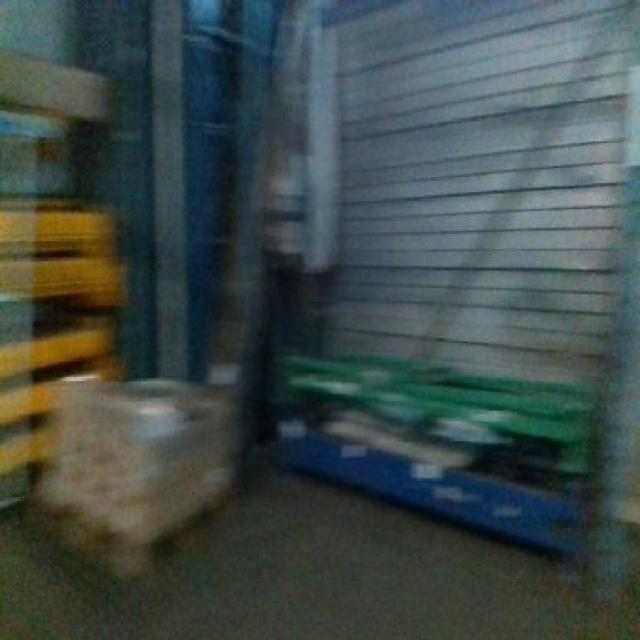pallets: (263, 0, 637, 577), (272, 355, 591, 557), (0, 48, 120, 504), (34, 378, 240, 575)
